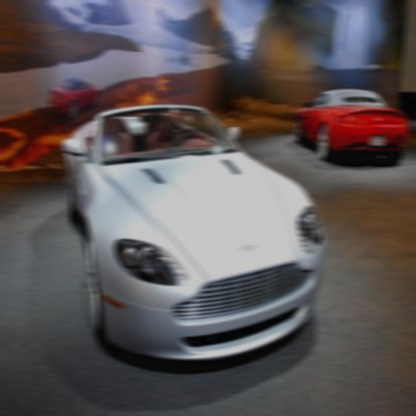Vehicle: (63, 101, 326, 370)
